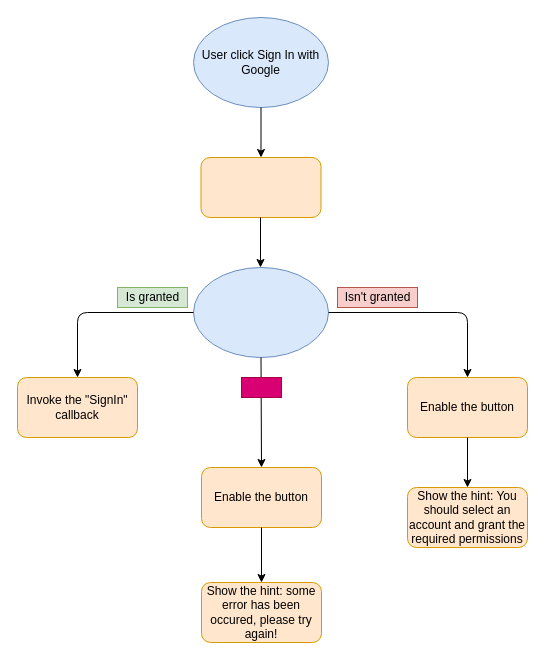
Some shapes in this 545 by 660 pixel diagram are drawn without their labels. The shapes that lost their labels are listed below. From the top down, each one's centre as x and y in pixels, then its label:
At pixel 260 187: "Dissable the button".
At pixel 260 312: "User select an account and grant permissions".
At pixel 261 387: "Error".
